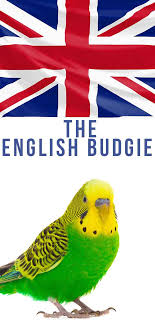budgie: (1, 179, 123, 322)
